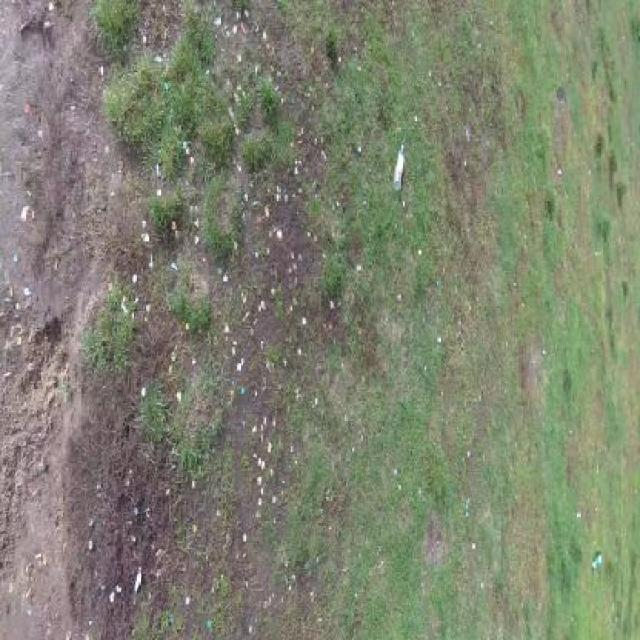Garbage: (390, 139, 405, 190), (133, 569, 142, 605), (591, 550, 601, 571)
